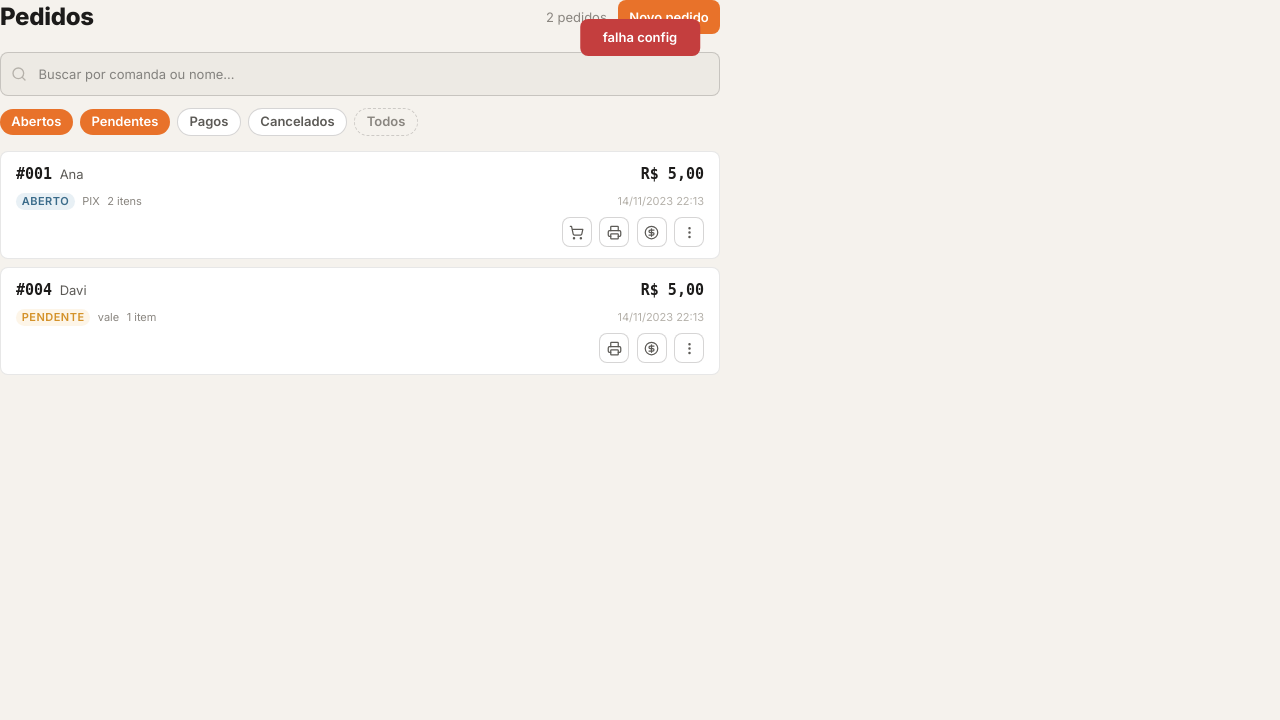
Test: OrdersPage › não imprime automaticamente quando a leitura da config falha
Expected: the text "#001" is shown, x1=16 y1=163 x2=52 y2=185
Click the 1st button named "Mais ações" at (689, 232), box x1=674 y1=217 x2=704 y2=247
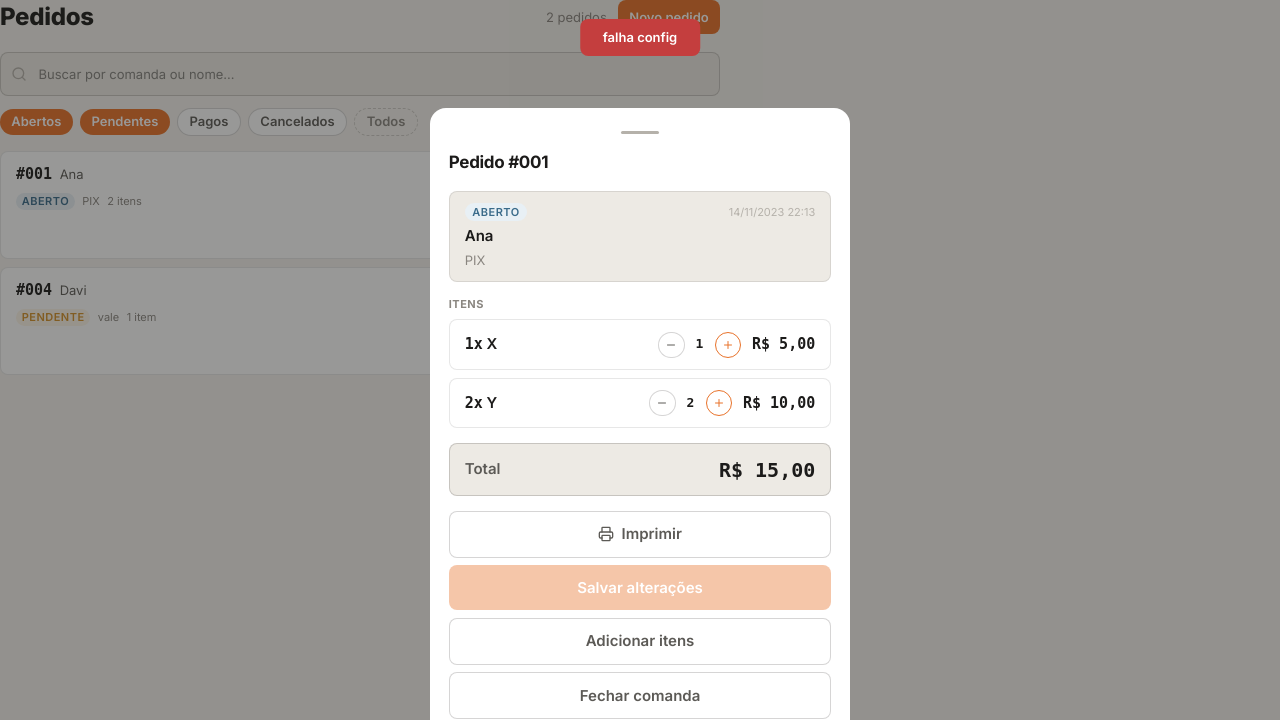
Click the button "Fechar comanda" at (640, 696), box x1=449 y1=672 x2=831 y2=719
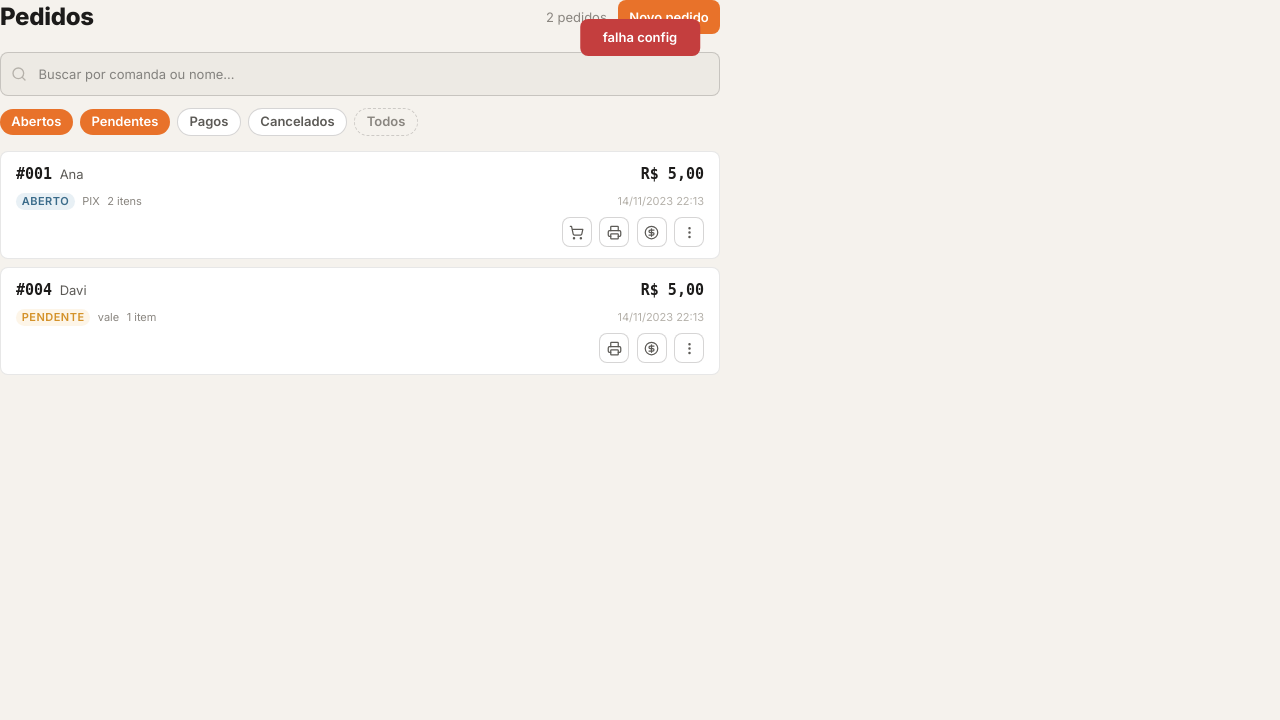
Expected: the dialog is gone
